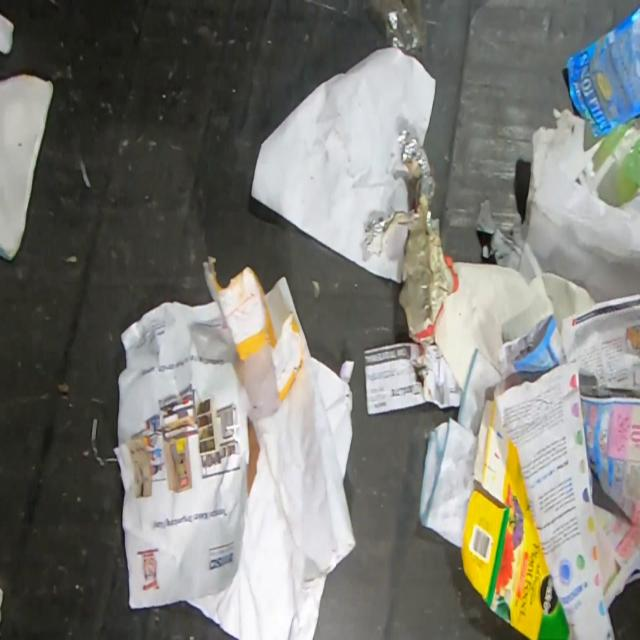cardboard: (460, 394, 572, 640)
soft_plastic: (363, 125, 458, 346), (366, 0, 426, 62), (602, 116, 640, 208)
